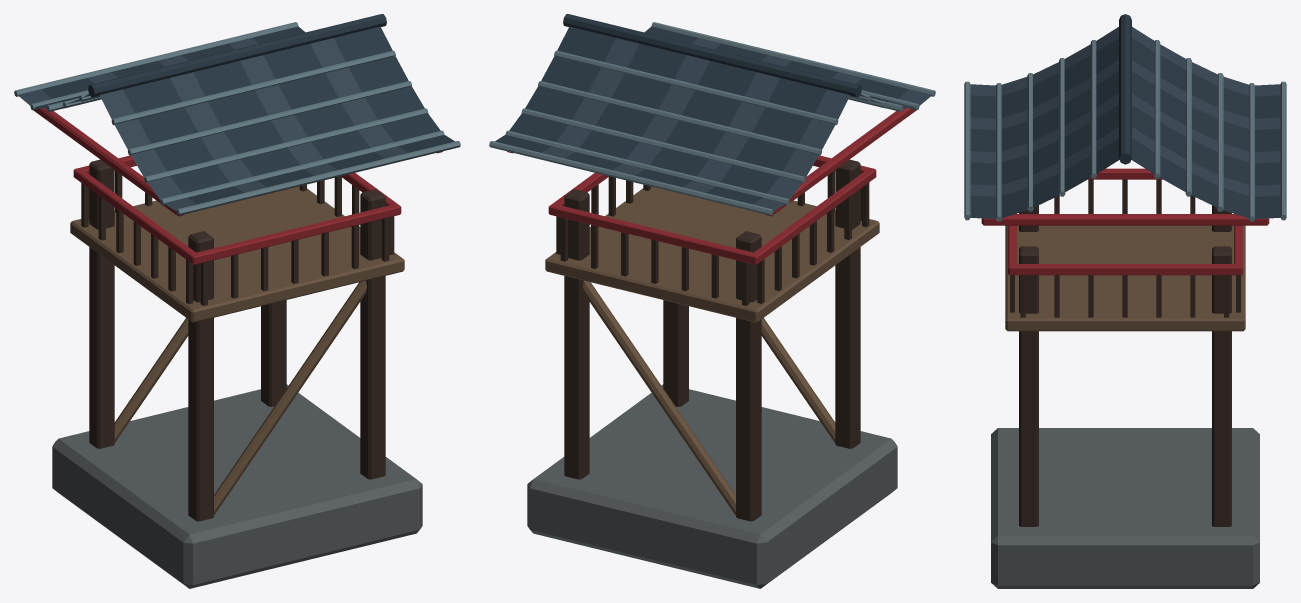
Rendered from tower.glb.
The picture shows the model from 3 angles, left to right: view 1: azimuth 30°, elevation 25°; view 2: azimuth 150°, elevation 25°; view 3: azimuth 270°, elevation 25°; orthographic projection. The views are drawn at different scales.
Parts seen in each view (by area): view 1: tower; view 2: tower; view 3: tower.
Boxes of the visible parts, <box> form: tower: <box>14,14,460,588</box>; tower: <box>489,14,935,588</box>; tower: <box>964,14,1286,588</box>.
Bounding box in the file's own units: 5.62 × 8.51 × 5.51.
